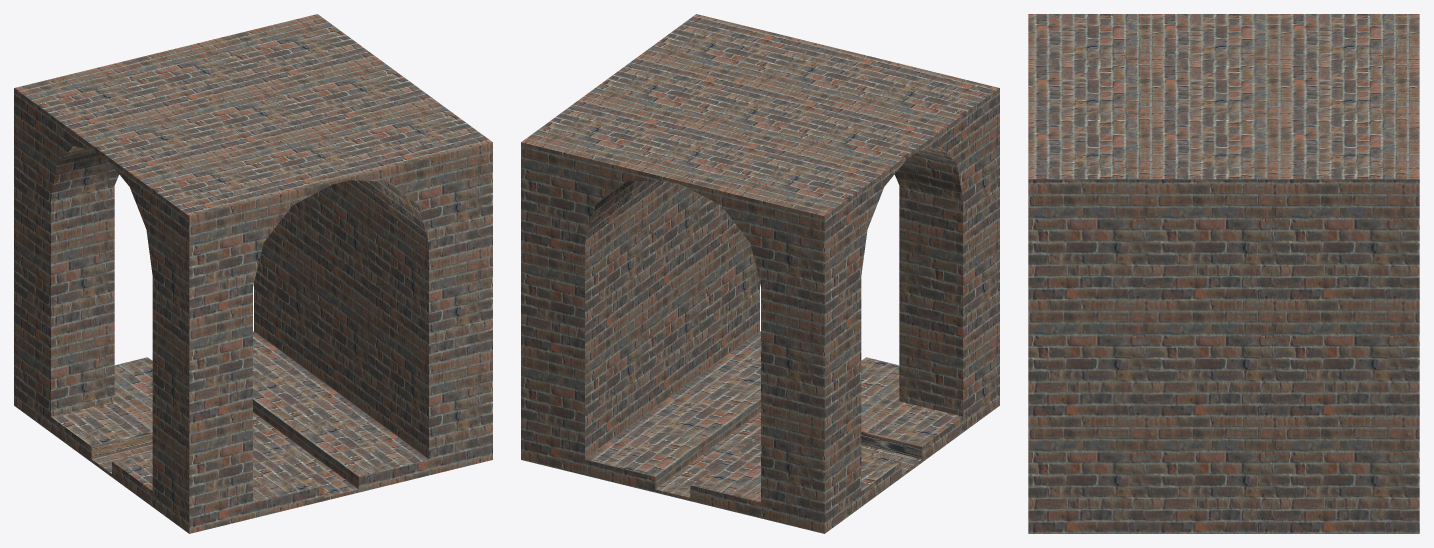
Rendered from Tunnel_T.fbx.
3 views of the same model, side by side, from view 1: azimuth 30°, elevation 25°; view 2: azimuth 150°, elevation 25°; view 3: azimuth 270°, elevation 25° (orthographic). The views are drawn at different scales.
Parts seen in each view (by area): view 1: Tunnel_Cross; view 2: Tunnel_Cross; view 3: Tunnel_Cross.
Boxes of the visible parts, x1=… form: Tunnel_Cross: x1=14, y1=14, x2=492, y2=533; Tunnel_Cross: x1=521, y1=14, x2=999, y2=533; Tunnel_Cross: x1=1028, y1=14, x2=1419, y2=533.
Bounding box in the file's own units: 5 × 5 × 5.
